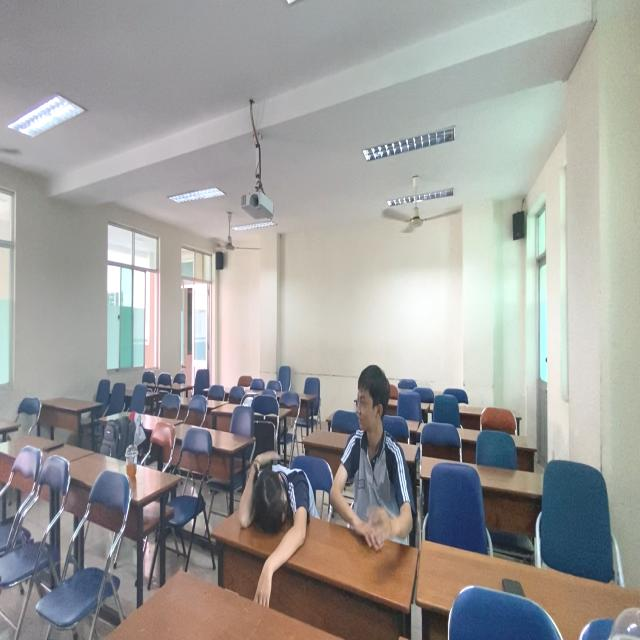sleep: (219, 448, 315, 626)
